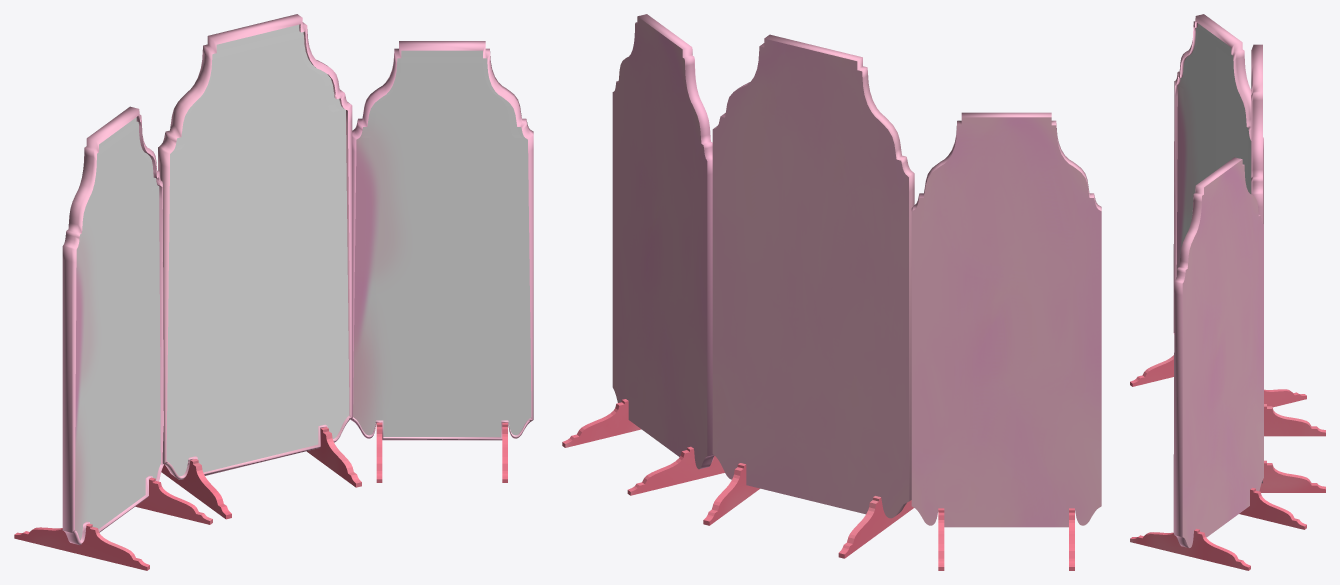
Rendered from mirror.fbx.
3 renders of one model, left to right at view 1: azimuth 30°, elevation 25°; view 2: azimuth 150°, elevation 25°; view 3: azimuth 270°, elevation 25°, orthographic. The views are drawn at different scales.
Parts seen in each view (by area): view 1: Mirror.002; view 2: Mirror.002; view 3: Mirror.002.
Boxes of the visible parts, x1,y1,x2,y2 form: Mirror.002: (14,14,533,570); Mirror.002: (562,14,1101,570); Mirror.002: (1130,14,1325,570).
Size of the model in its own units: 238 by 206 by 91.7.
1 material, 1 textured.
